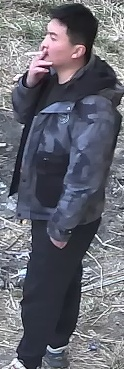smoking: (6, 24, 78, 124)
